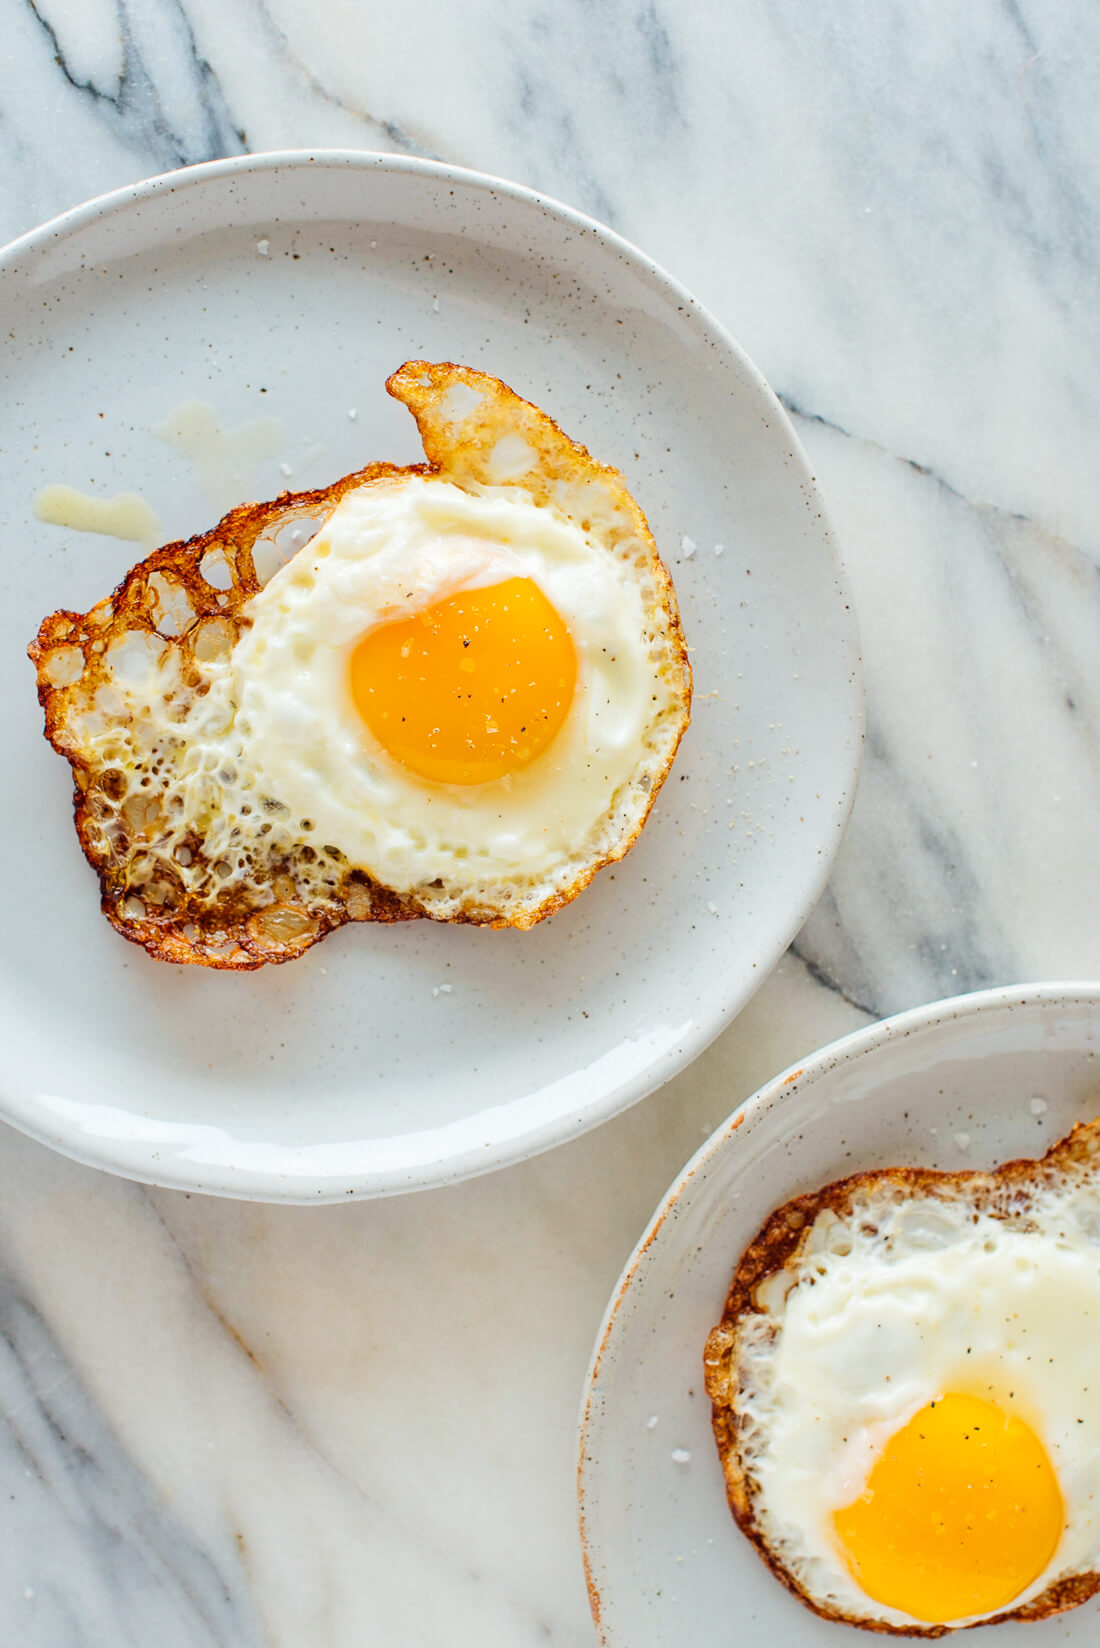fried egg: (155, 498, 647, 863), (773, 1219, 1077, 1605)
